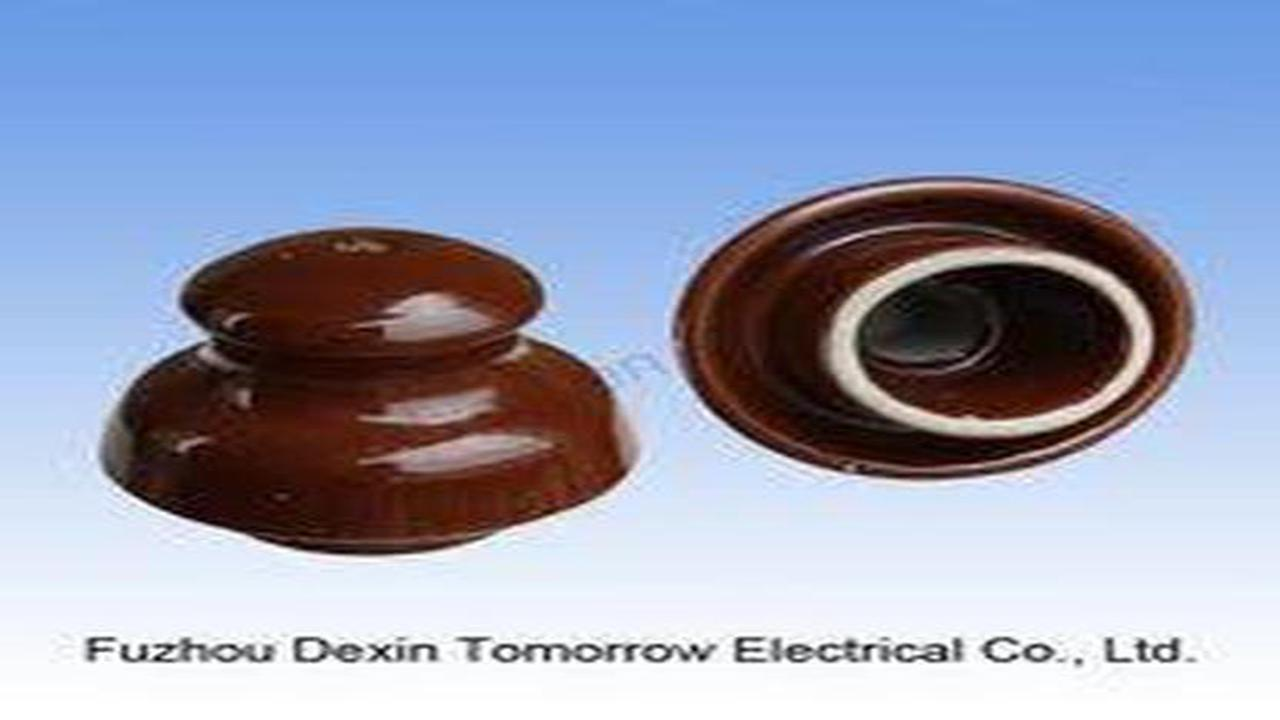insulator_pin: (662, 174, 1225, 494)
